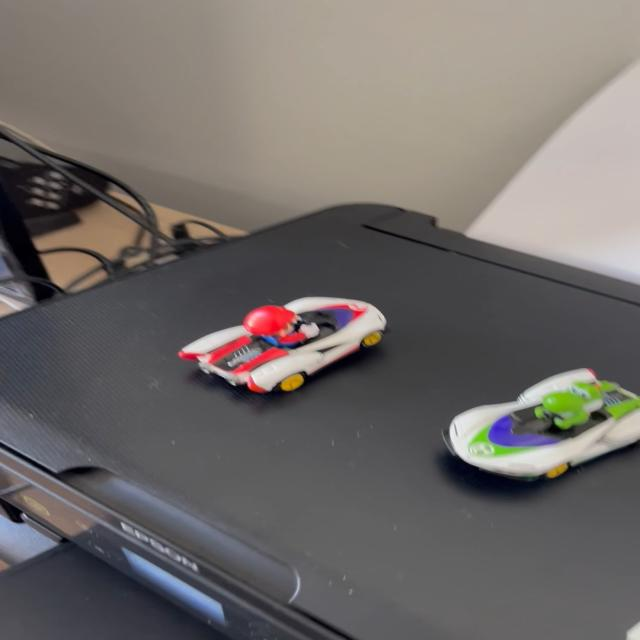mario: (165, 297, 410, 407)
yoshi: (432, 354, 640, 487)
